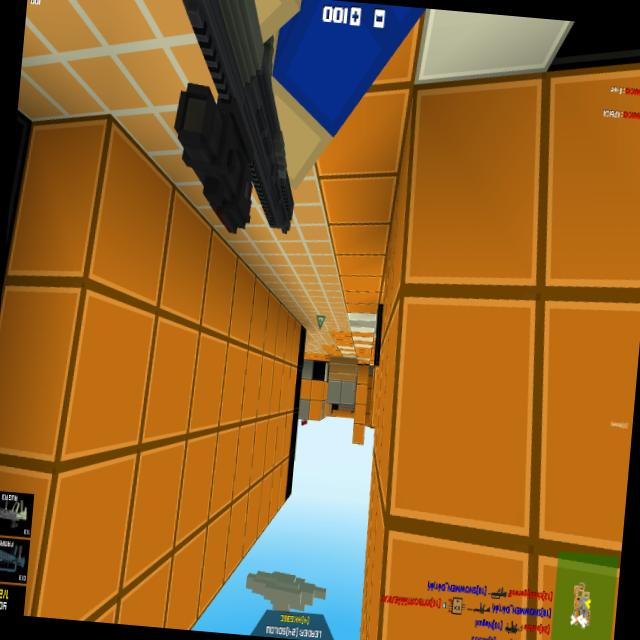enemy: (300, 419, 307, 426)
